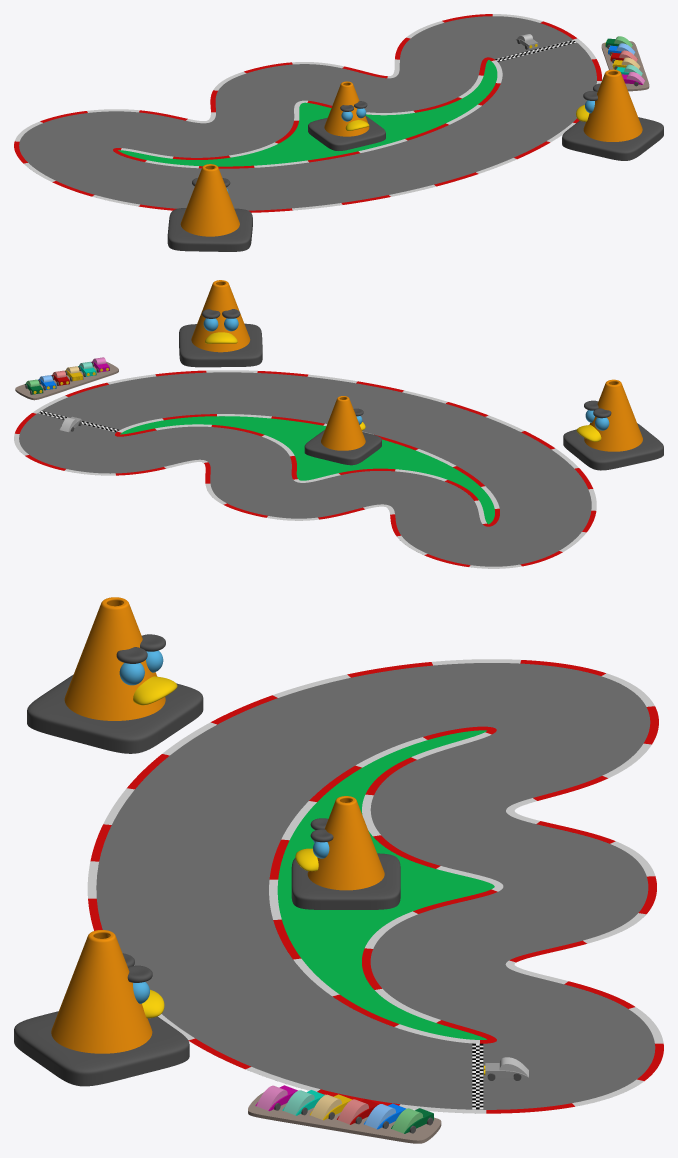
Rendered from Track009_MiniComb4.fbx.
3 renders of one model, top to bottom at view 1: azimuth 30°, elevation 25°; view 2: azimuth 150°, elevation 25°; view 3: azimuth 270°, elevation 25°, orthographic. The views are drawn at different scales.
Visible parts, largest first — view 1: Track, Island_00, BigConeTop.003, BigConeTop.002, BigConeBase.002, BigConeBase.003, BigConeBase.001, BigConeTop.001, VehicleRoad; view 2: Track, Island_00, BigConeTop.003, BigConeBase.002, BigConeBase.003, BigConeTop.002, BigConeTop.001, BigConeBase.001, VehicleRoad; view 3: Track, Island_00, BigConeTop.002, BigConeTop.003, BigConeBase.002, BigConeBase.003, BigConeTop.001, BigConeBase.001, VehicleRoad, BigConeBeak.003, CheckeredLine, BigConeEyes.003 (+2 smaller).
Boxes of the visible parts, x1,y1,x2,y2 form: Track: (19, 16, 596, 210); Island_00: (118, 60, 497, 166); BigConeTop.003: (180, 164, 239, 236); BigConeTop.002: (583, 69, 642, 141); BigConeBase.002: (562, 117, 663, 160); BigConeBase.003: (167, 208, 252, 251); BigConeBase.001: (308, 115, 385, 150); BigConeTop.001: (324, 81, 369, 136); VehicleRoad: (601, 41, 649, 91); Track: (19, 372, 591, 566); Island_00: (120, 416, 494, 524); BigConeTop.003: (584, 379, 642, 451); BigConeBase.002: (179, 323, 262, 367); BigConeBase.003: (563, 423, 663, 470); BigConeTop.002: (191, 280, 250, 352); BigConeTop.001: (321, 396, 365, 450); BigConeBase.001: (304, 430, 381, 465); VehicleRoad: (15, 361, 118, 400); Track: (96, 663, 655, 1109); Island_00: (277, 730, 494, 1039); BigConeTop.002: (51, 930, 152, 1053); BigConeTop.003: (64, 597, 165, 720); BigConeBase.002: (14, 1011, 189, 1086); BigConeBase.003: (27, 674, 203, 753); BigConeTop.001: (307, 796, 384, 890); BigConeBase.001: (291, 853, 400, 909); VehicleRoad: (248, 1092, 441, 1143); BigConeBeak.003: (133, 676, 177, 705); CheckeredLine: (472, 1043, 483, 1109); BigConeEyes.003: (119, 650, 163, 685).
Size of what is drawn, in the model's own units: 157 by 89.19 by 17.31.
